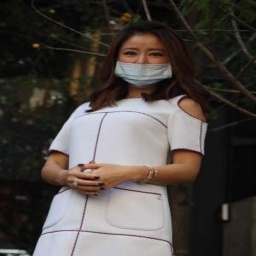incorrectlyWear: (113, 43, 173, 86)
